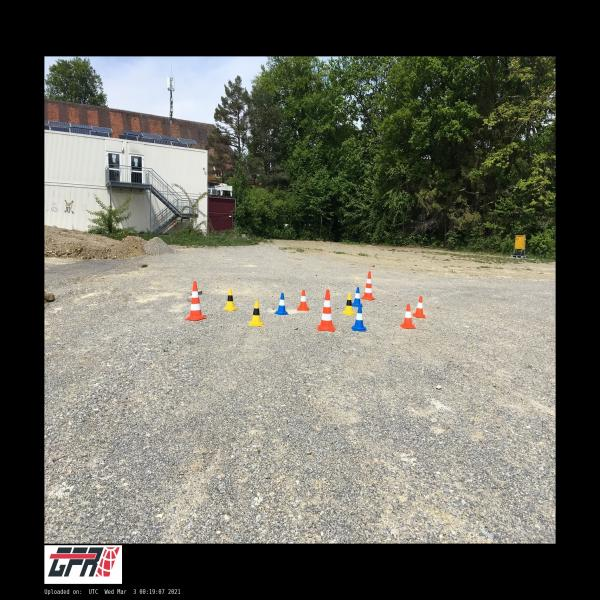blue_cone: (351, 306, 367, 331), (274, 293, 289, 315), (352, 287, 363, 307)
large_orange_cone: (185, 281, 206, 321), (318, 290, 335, 331), (361, 272, 375, 300)
orange_cone: (400, 304, 416, 329), (412, 296, 425, 318), (298, 290, 308, 311)
yellow_cone: (249, 301, 264, 327), (341, 293, 356, 316), (223, 289, 238, 311)
